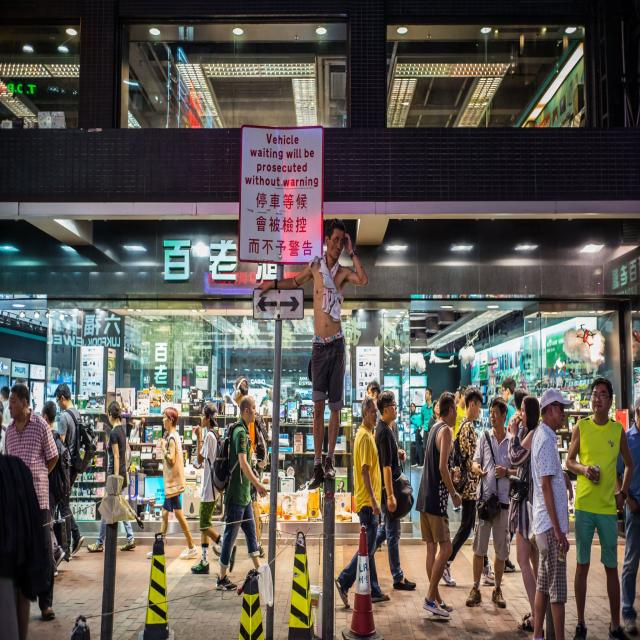body: (255, 216, 370, 490), (565, 376, 636, 640), (2, 381, 60, 622), (527, 385, 578, 640), (332, 395, 392, 611), (463, 396, 520, 609), (211, 392, 271, 592), (413, 390, 462, 620), (211, 373, 269, 562), (441, 384, 494, 587), (0, 452, 46, 640), (189, 400, 238, 576), (375, 389, 417, 592), (506, 393, 541, 633), (146, 406, 200, 561), (53, 381, 97, 562), (86, 400, 137, 553), (610, 392, 640, 640), (41, 399, 71, 576), (502, 386, 528, 574), (251, 382, 306, 423), (394, 399, 423, 473), (418, 386, 434, 458), (451, 385, 468, 447), (366, 379, 382, 442), (500, 375, 518, 427), (428, 397, 442, 431), (1, 383, 9, 442), (213, 389, 230, 415), (125, 344, 143, 354), (454, 385, 460, 403), (139, 393, 149, 400), (203, 372, 207, 378)
